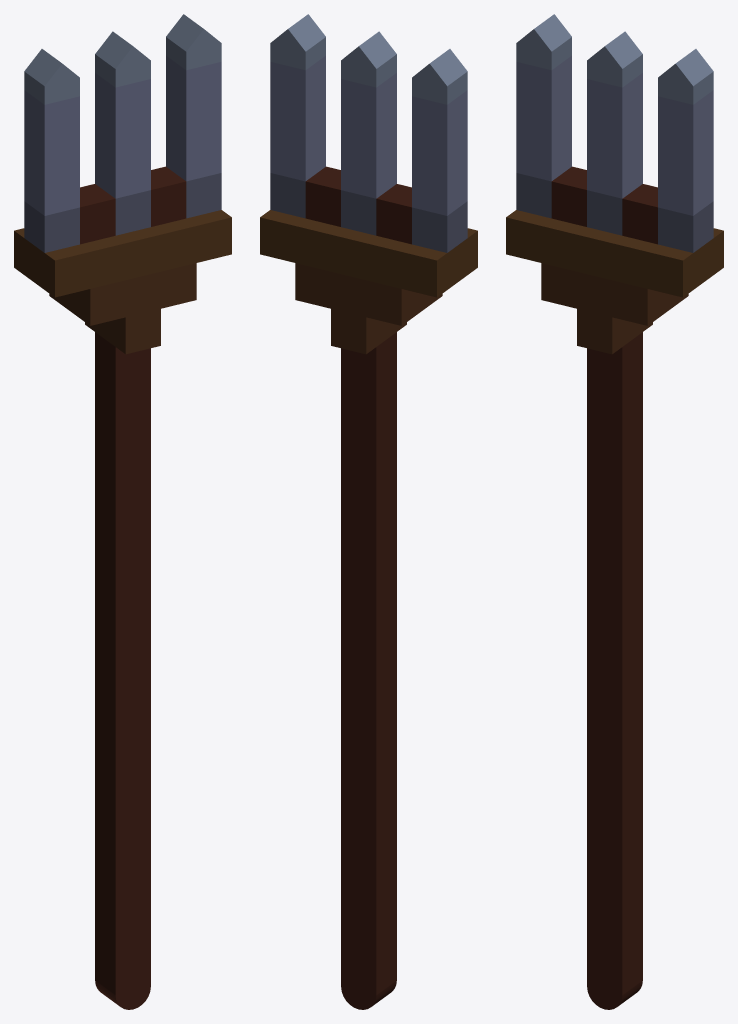
File: pitchfork.obj
The picture shows the model from 3 angles, left to right: view 1: azimuth 30°, elevation 25°; view 2: azimuth 150°, elevation 25°; view 3: azimuth 330°, elevation 25°; orthographic projection.
Size of the model in its own units: 5 by 26 by 2.
